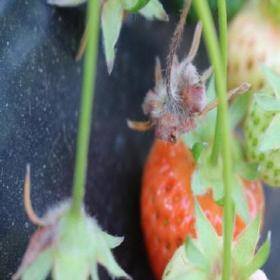Gray Mold: (126, 21, 251, 145)
